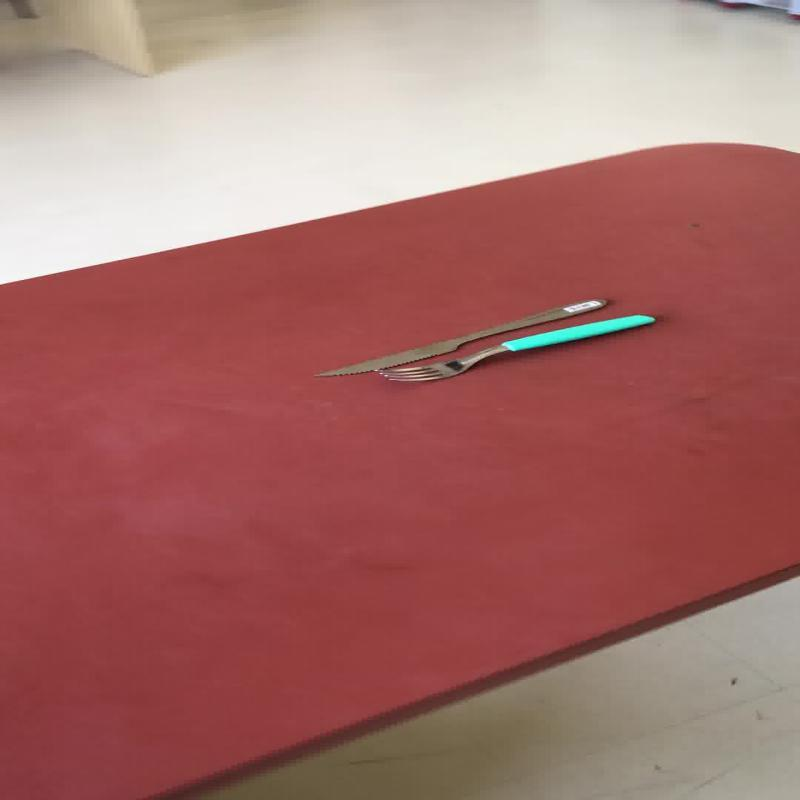fork: (373, 312, 654, 382)
knife: (311, 296, 608, 378)
